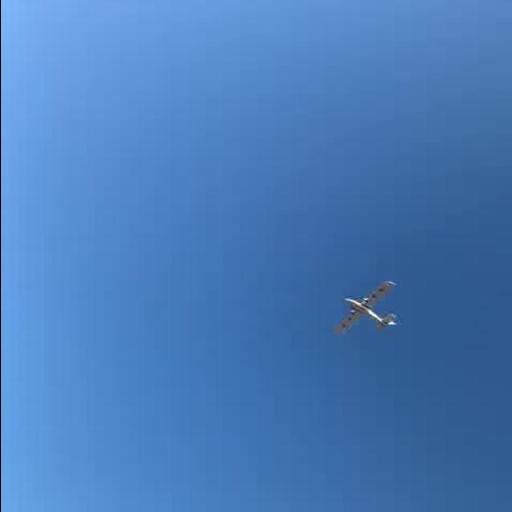uav: (322, 278, 404, 336)
